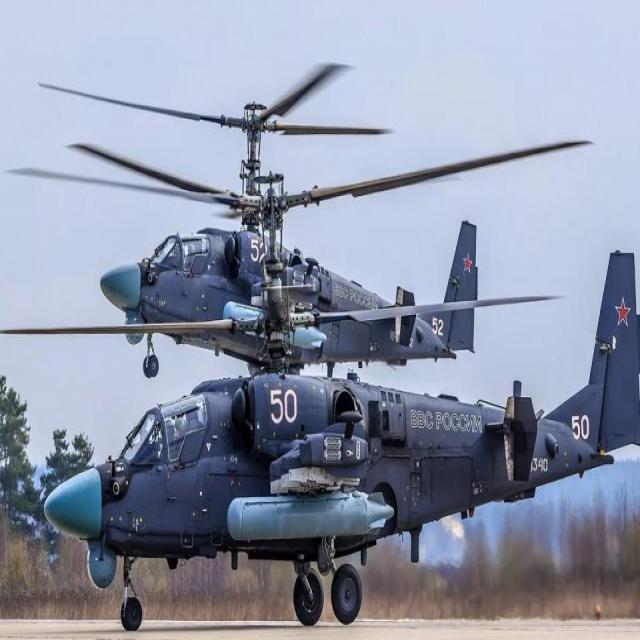MIL_HELO: (12, 288, 640, 594), (76, 132, 495, 391)
